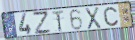4: (18, 12, 32, 36)
6: (69, 8, 84, 31)
C: (102, 6, 120, 27)
T: (51, 9, 65, 33)
X: (84, 6, 103, 31)
Z: (31, 11, 53, 36)
